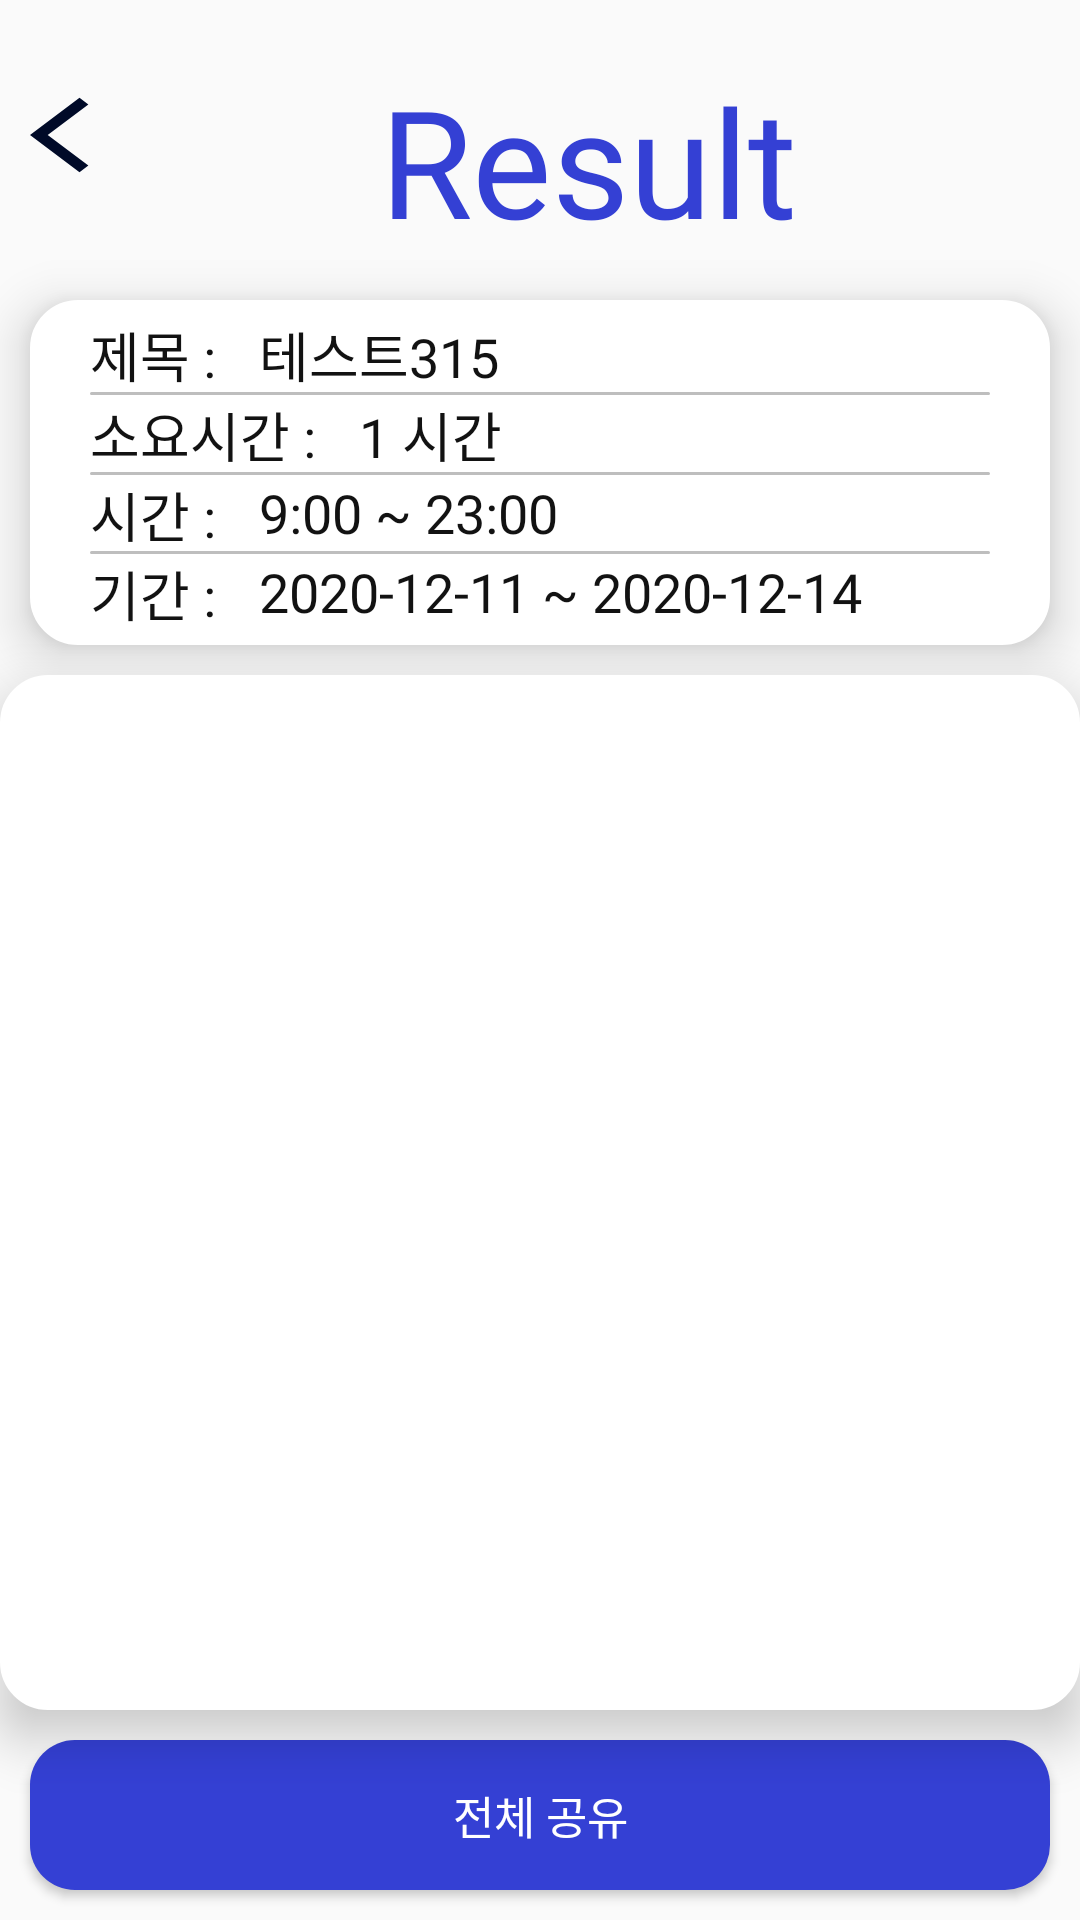

Locate icon controls on the screen. Image size 1080*1920, boxes as BBox(x1, y1, x2, y2).
arrow back: BBox(30, 98, 88, 172)
